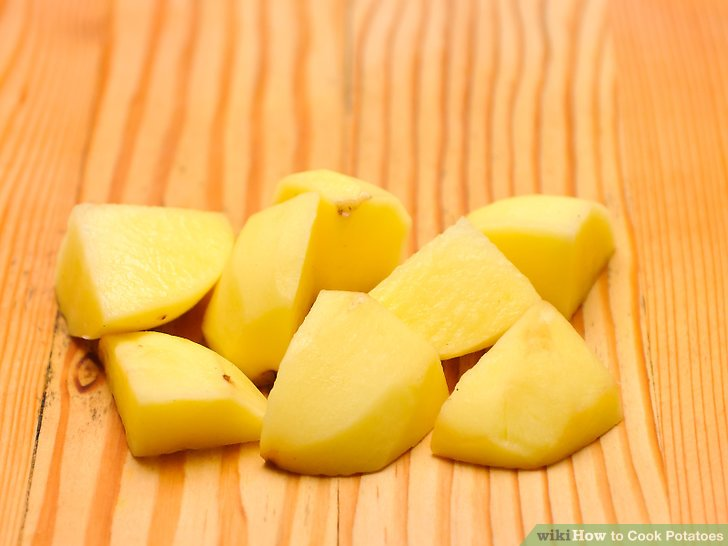boiled potatoes: (55, 182, 646, 471)
